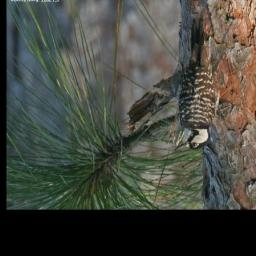Woodpecker: (172, 10, 232, 151)
